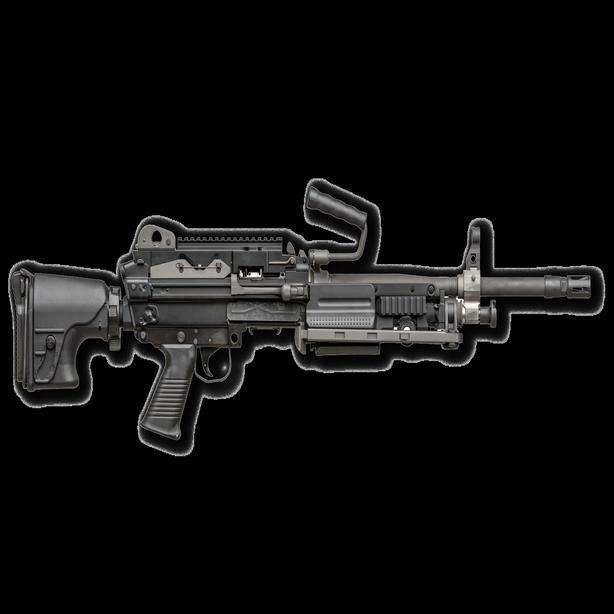Firearm: (10, 169, 614, 479)
